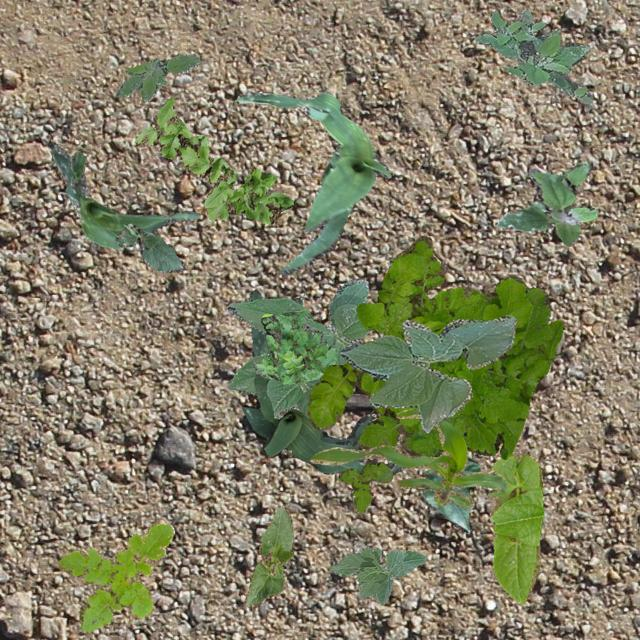crop: (241, 288, 404, 474), (234, 90, 392, 274), (340, 314, 516, 432), (227, 278, 371, 418), (308, 408, 504, 508), (48, 142, 198, 248), (488, 452, 542, 602), (330, 546, 426, 604), (244, 504, 292, 606), (422, 456, 478, 532), (114, 222, 184, 272)
weed: (306, 234, 562, 458), (134, 96, 292, 222), (56, 522, 174, 632), (474, 8, 590, 106), (496, 160, 596, 246), (253, 307, 335, 383), (115, 52, 198, 100), (338, 462, 392, 514)
